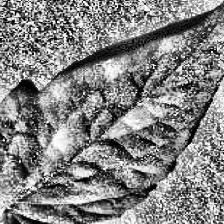leaf mold: (0, 17, 216, 224)
